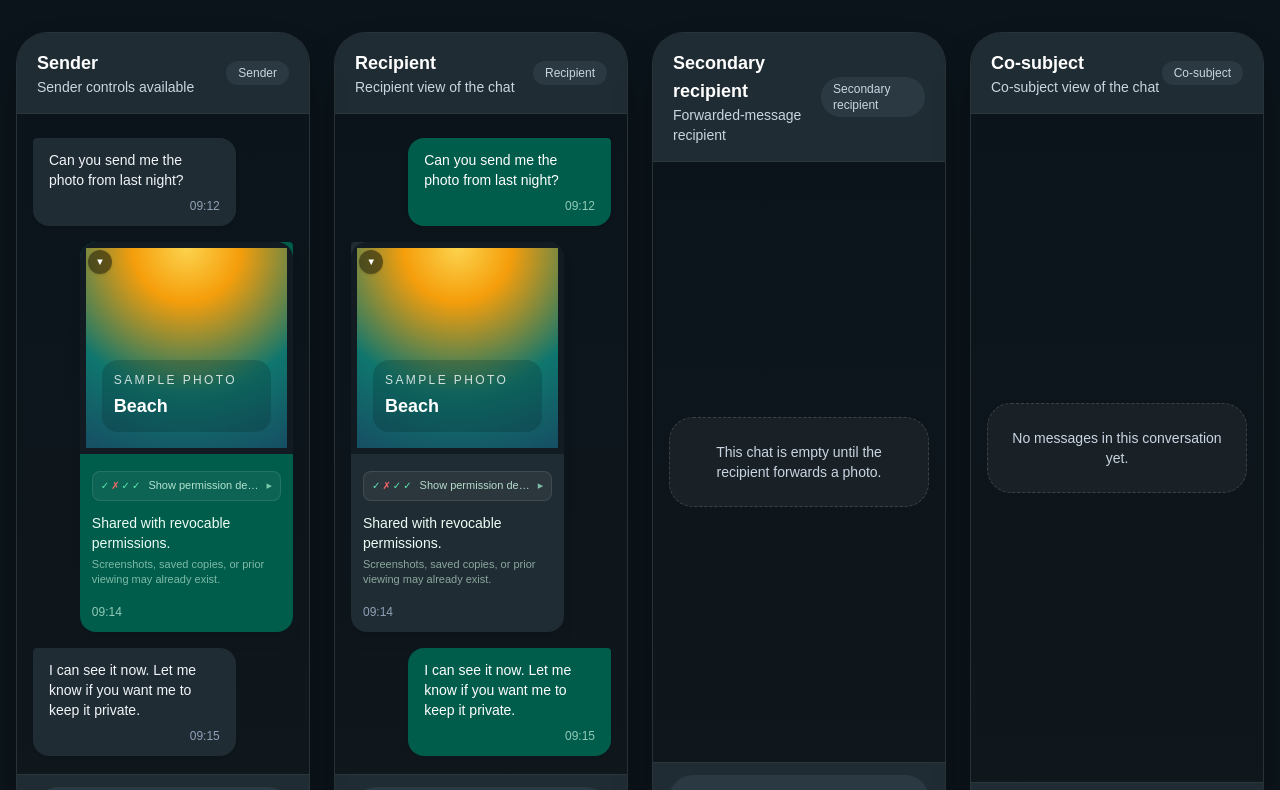
Scenario: PhotoRevocationDemo › lets the sender forward their own photo from the main thread when forwarding is allowed
expect the text "Sender controls available" is shown: met, box [37,79,194,95]
Click the button named "Open photo options".
click(100, 262)  # box [88,250,112,274]
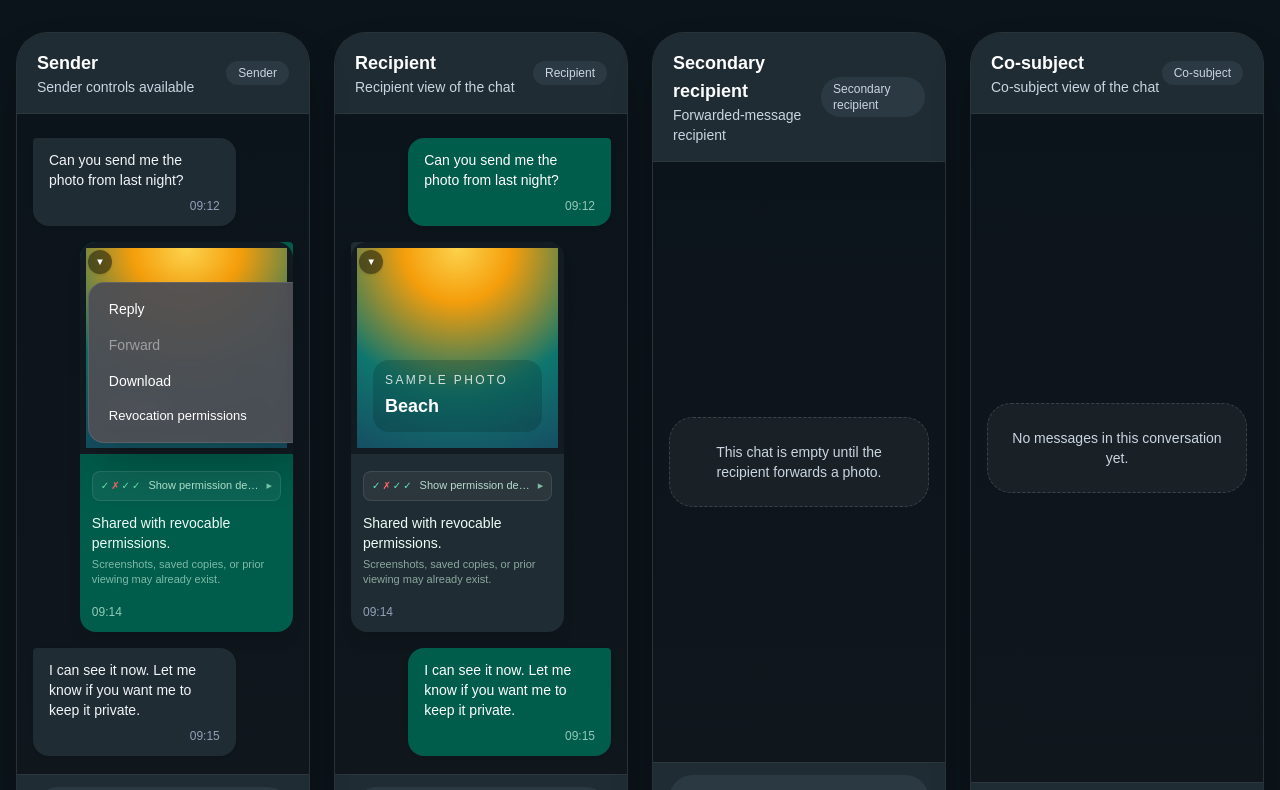
Click the button "Revocation permissions".
click(200, 416)  # box [97,399,303,434]
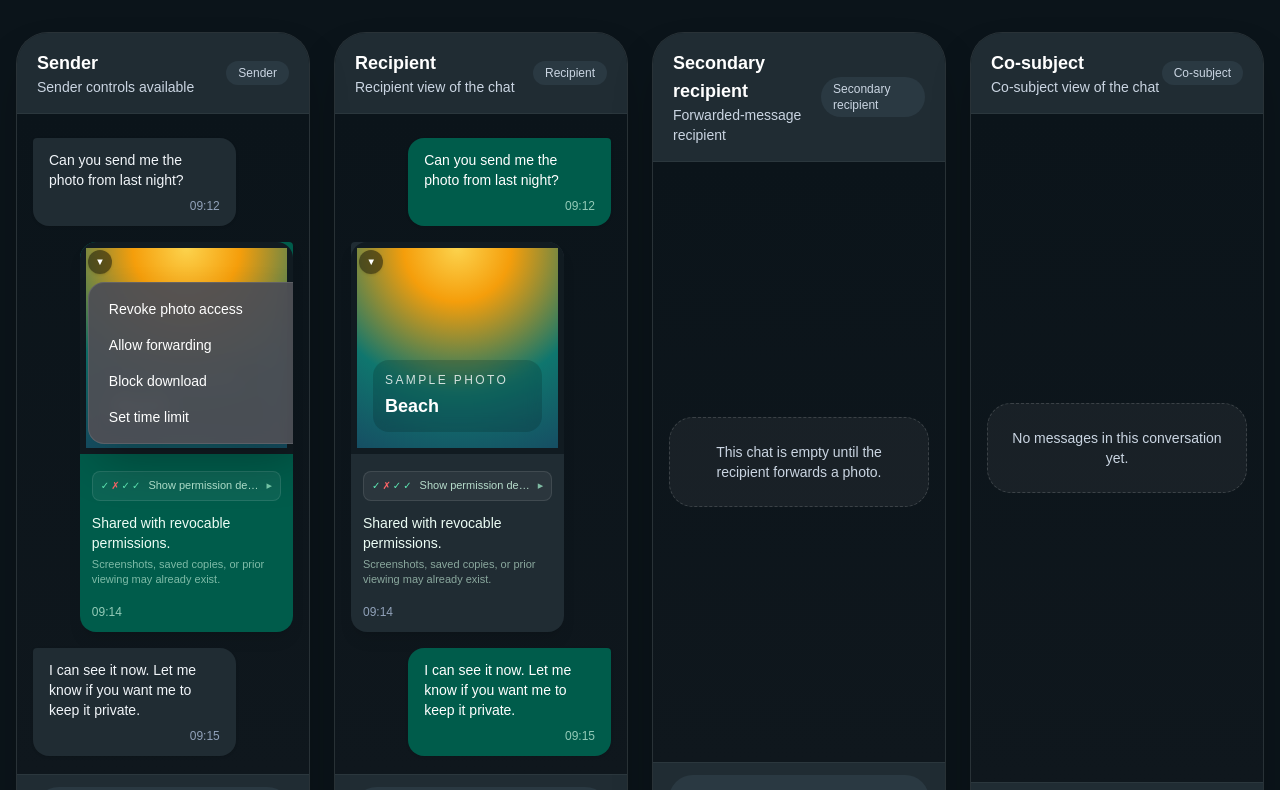
Click the button "Allow forwarding".
click(200, 345)  # box [97,327,303,363]
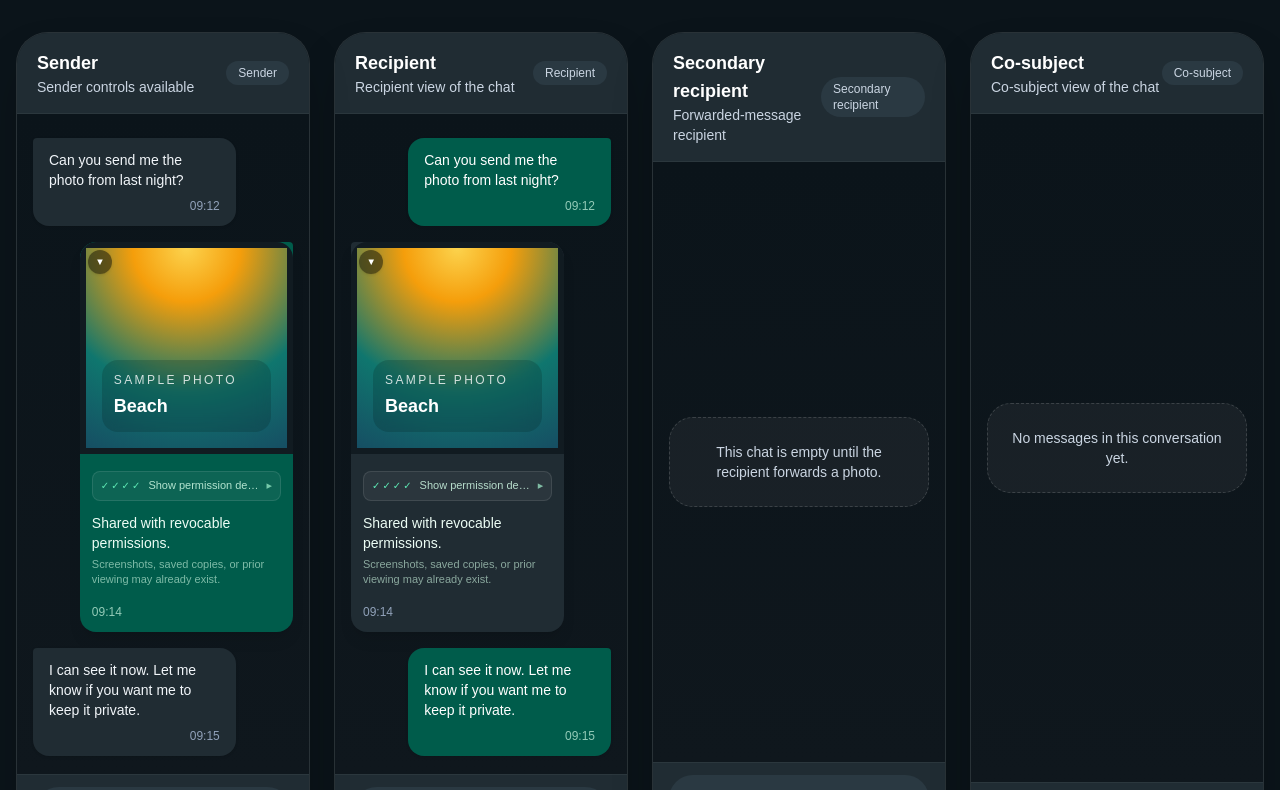
Click the button named "Open photo options".
click(100, 262)  # box [88,250,112,274]
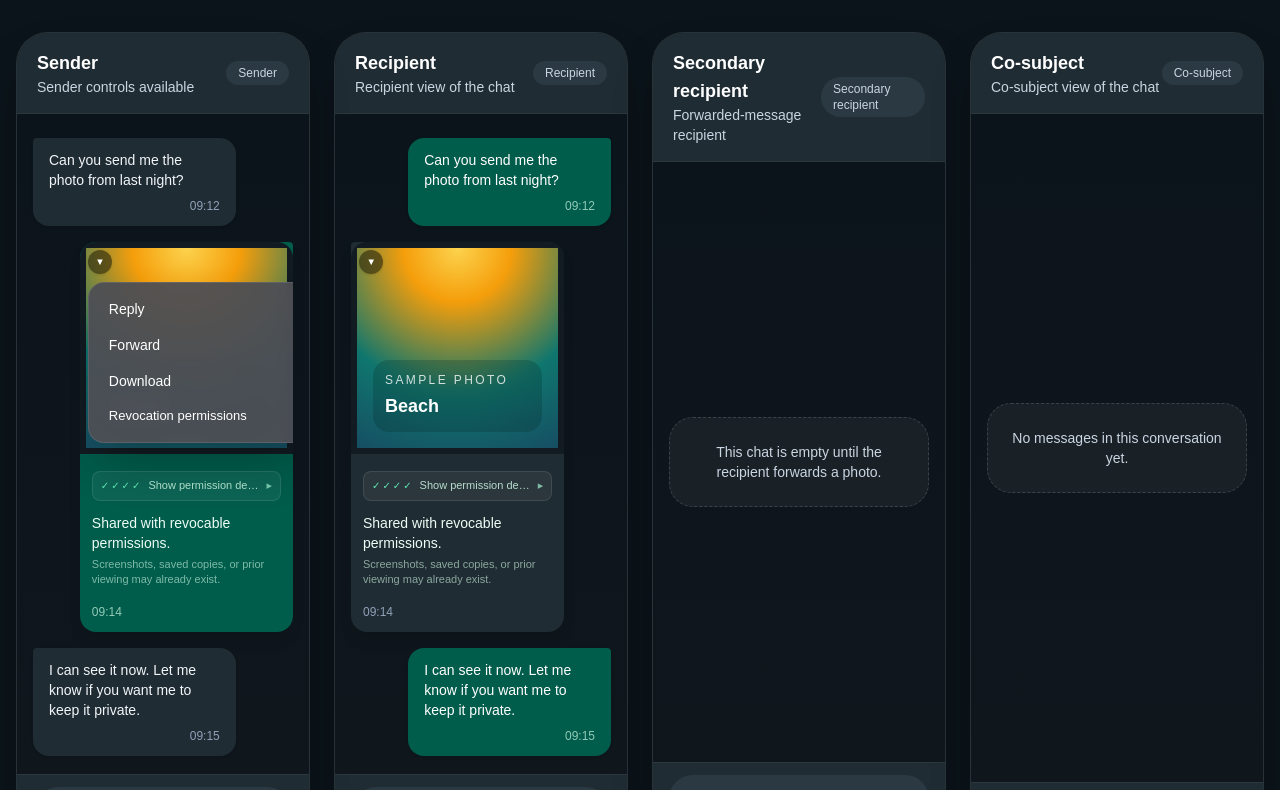
Click the button "Forward".
click(200, 345)  # box [97,327,303,363]
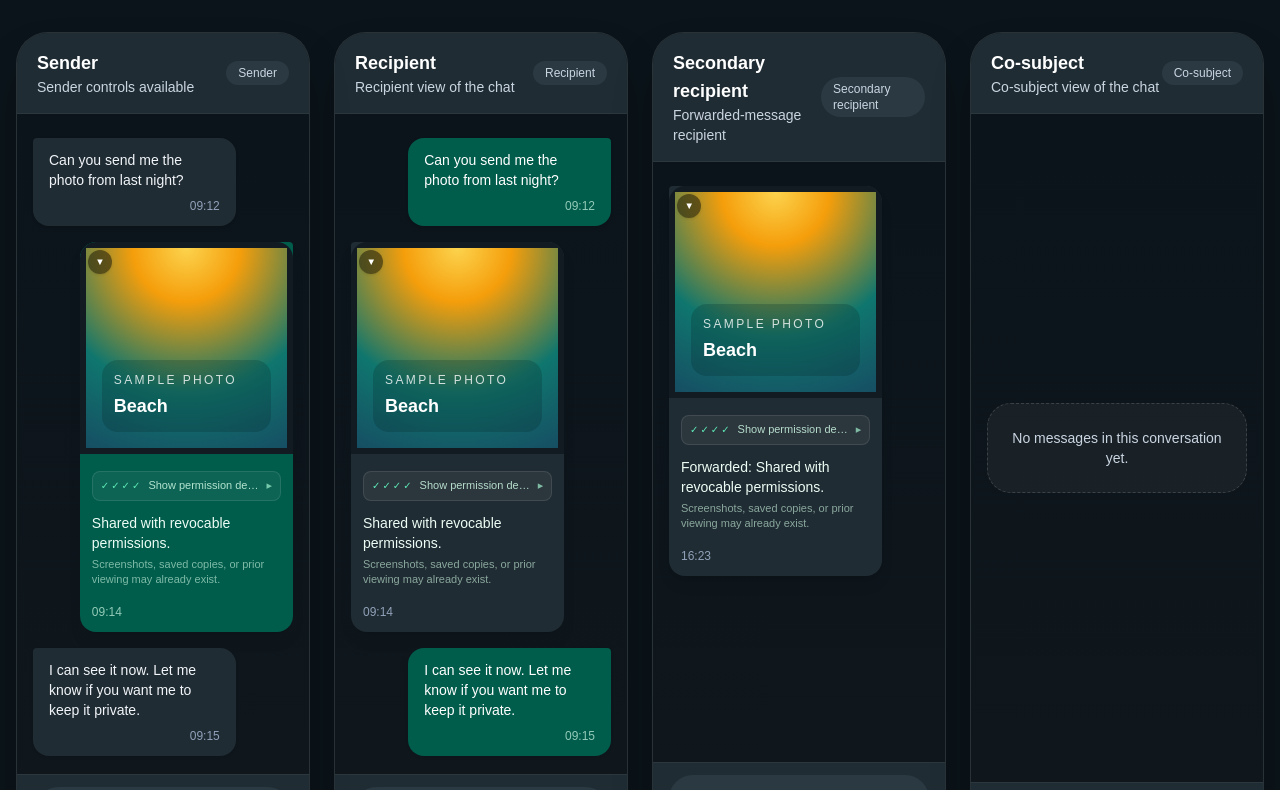
expect the text "Forwarded-message recipient" is shown: met, box [673,107,801,143]
expect the text "Forwarded: Shared with revocable permissions." is shown: met, box [681,459,830,495]
